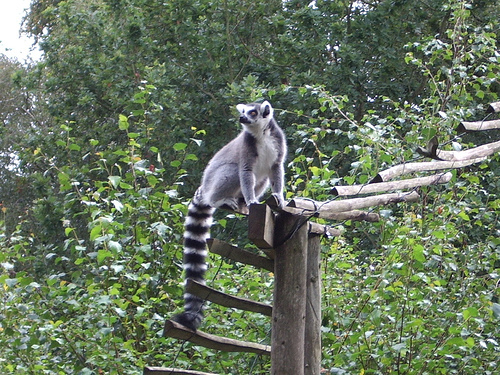cat: (173, 101, 286, 331)
